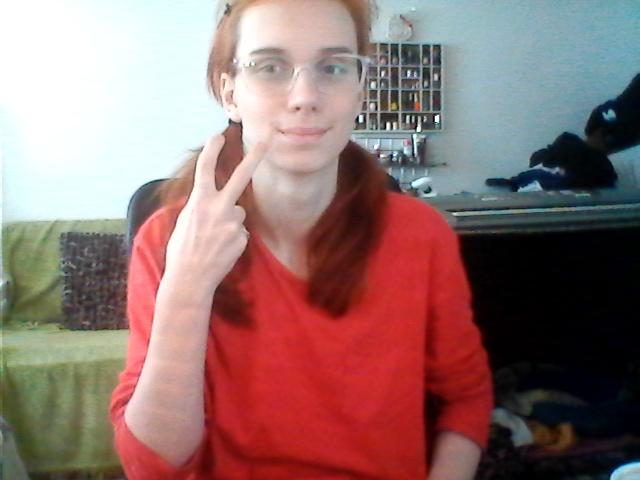usmievat: (168, 124, 358, 255)
